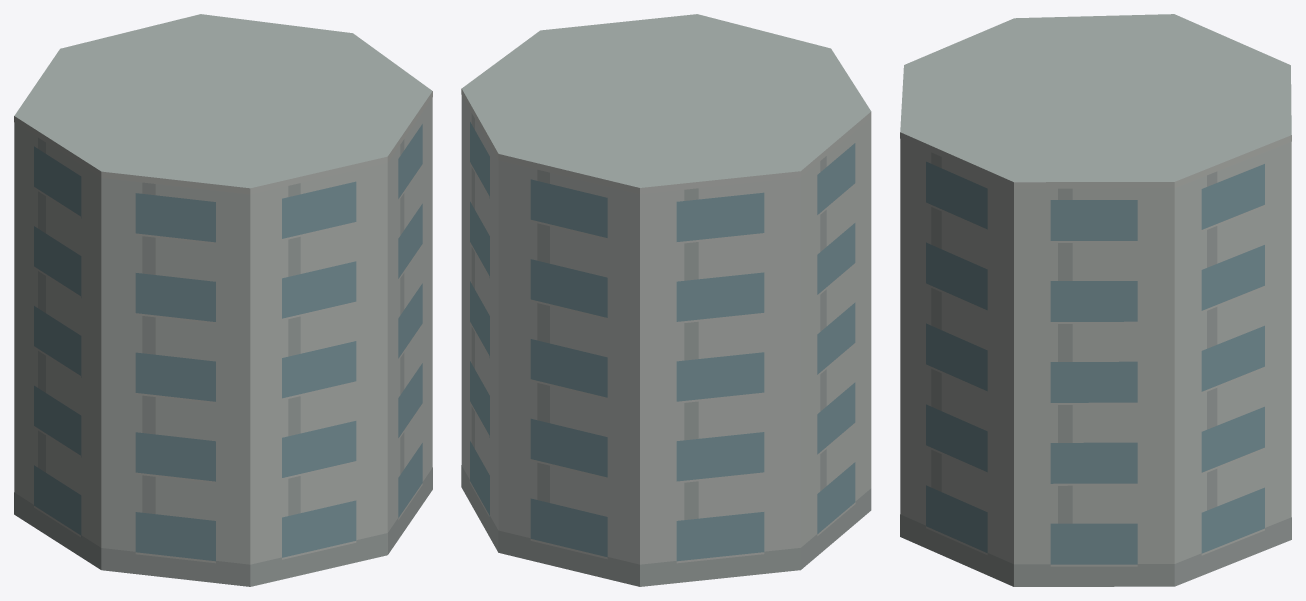
The model's file is survey-upis-32984462.glb.
3 renders of one model, left to right at view 1: azimuth 30°, elevation 25°; view 2: azimuth 150°, elevation 25°; view 3: azimuth 270°, elevation 25°, orthographic.
Parts seen in each view (by area): view 1: survey-upis-32984462.tmp; view 2: survey-upis-32984462.tmp; view 3: survey-upis-32984462.tmp.
Part boxes in pixels (x1,y1,x2,y2): survey-upis-32984462.tmp: (14,14,432,586); survey-upis-32984462.tmp: (461,14,871,586); survey-upis-32984462.tmp: (900,14,1291,586).
Size of the model in its own units: 13.6 by 15.25 by 13.38.
